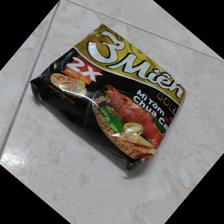3mien: (29, 23, 187, 170)
